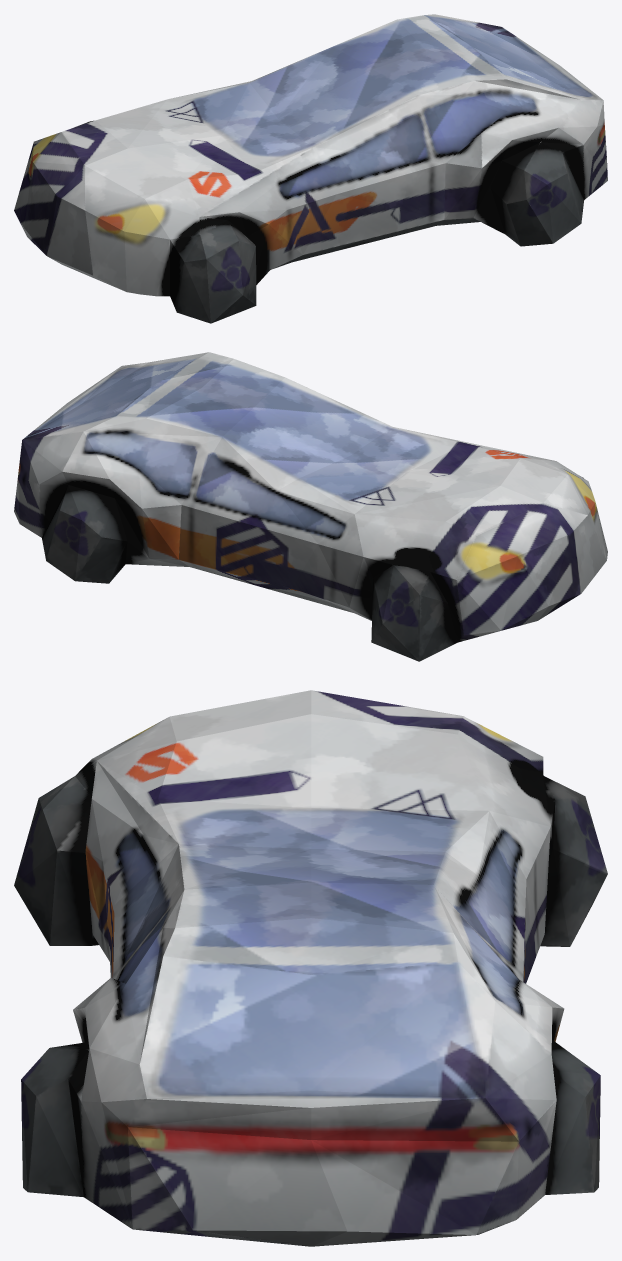
File: Car_Model.FBX
3 renders of one model, top to bottom at view 1: azimuth 30°, elevation 25°; view 2: azimuth 150°, elevation 25°; view 3: azimuth 270°, elevation 25°, orthographic. The views are drawn at different scales.
Parts seen in each view (by area): view 1: file1; view 2: file1; view 3: file1.
Boxes of the visible parts, left/top/right/bottom form: file1: left=14, top=14, right=607, bottom=323; file1: left=14, top=352, right=607, bottom=661; file1: left=14, top=690, right=607, bottom=1246.
Size of the model in its own units: 591 by 158 by 342.
Materials: 1 (1 with a texture image).
